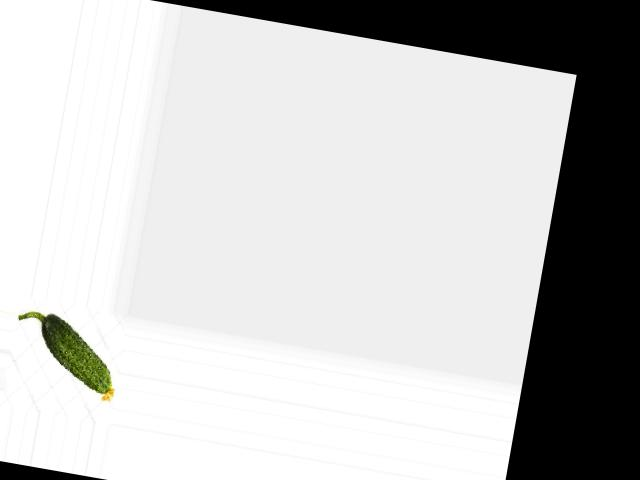cucumber: (7, 308, 126, 403)
